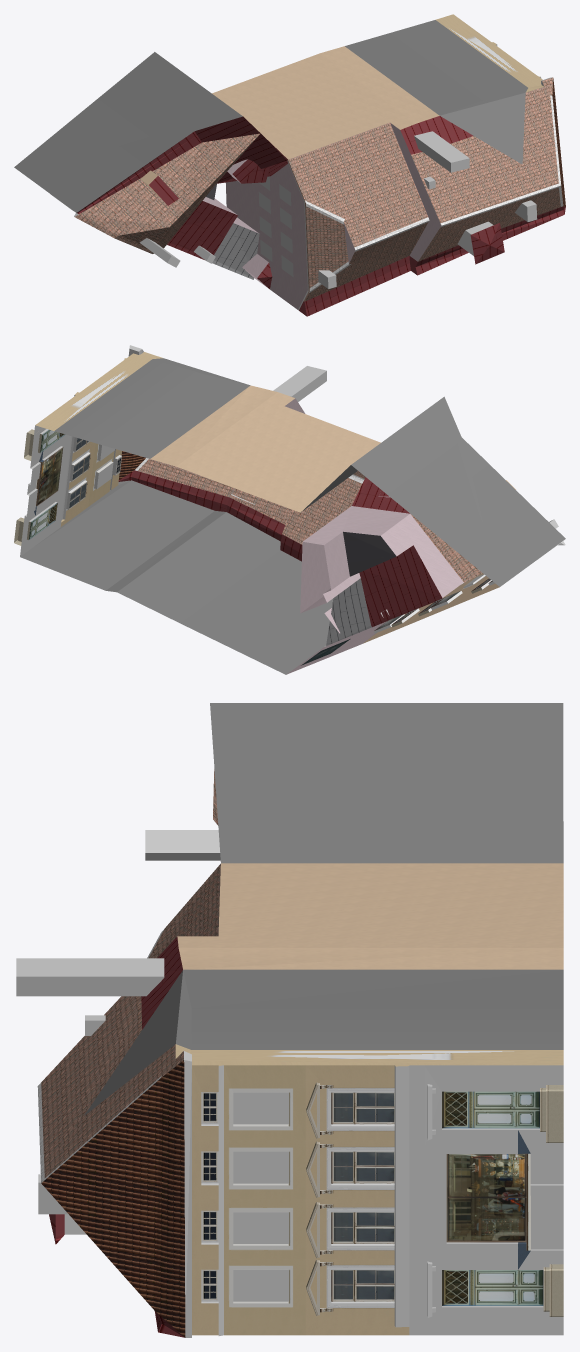
File: Kinga_3.obj
3 renders of one model, top to bottom at view 1: azimuth 30°, elevation 25°; view 2: azimuth 150°, elevation 25°; view 3: azimuth 270°, elevation 25°, orthographic. The views are drawn at different scales.
Visible parts, largest first — view 1: Kinga_3; view 2: Kinga_3; view 3: Kinga_3.
Boxes of the visible parts, box(x1,y1,x2,y2) form: Kinga_3: box(14, 14, 565, 316); Kinga_3: box(14, 345, 565, 674); Kinga_3: box(16, 703, 563, 1337).
Size of the model in its own units: 40.87 by 18.29 by 21.05.
